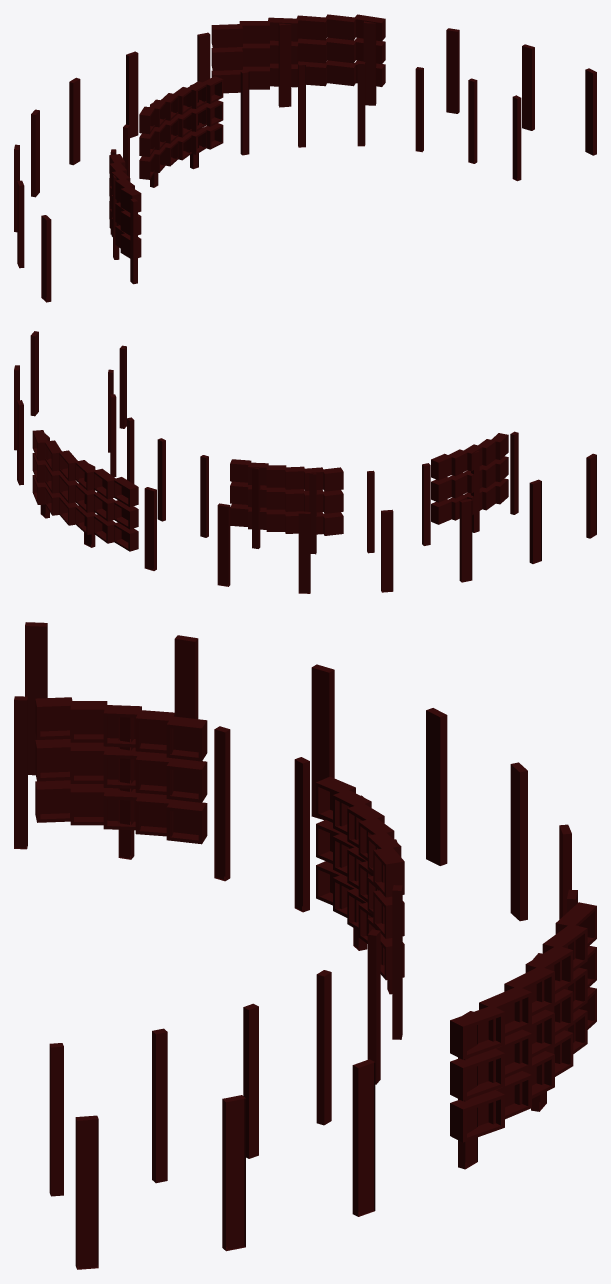
File: demilune_bandes.obj
The picture shows the model from 3 angles, top to bottom: view 1: azimuth 30°, elevation 25°; view 2: azimuth 150°, elevation 25°; view 3: azimuth 270°, elevation 25°; orthographic projection. The views are drawn at different scales.
Visible parts, largest first — view 1: demi_lune.007_Cube.007; view 2: demi_lune.007_Cube.007; view 3: demi_lune.007_Cube.007.
Boxes of the visible parts, left/top/right/bottom form: demi_lune.007_Cube.007: left=14, top=14, right=596, bottom=302; demi_lune.007_Cube.007: left=14, top=331, right=596, bottom=593; demi_lune.007_Cube.007: left=14, top=622, right=596, bottom=1269.
Bounding box in the file's own units: 66.19 × 9.32 × 32.69.
